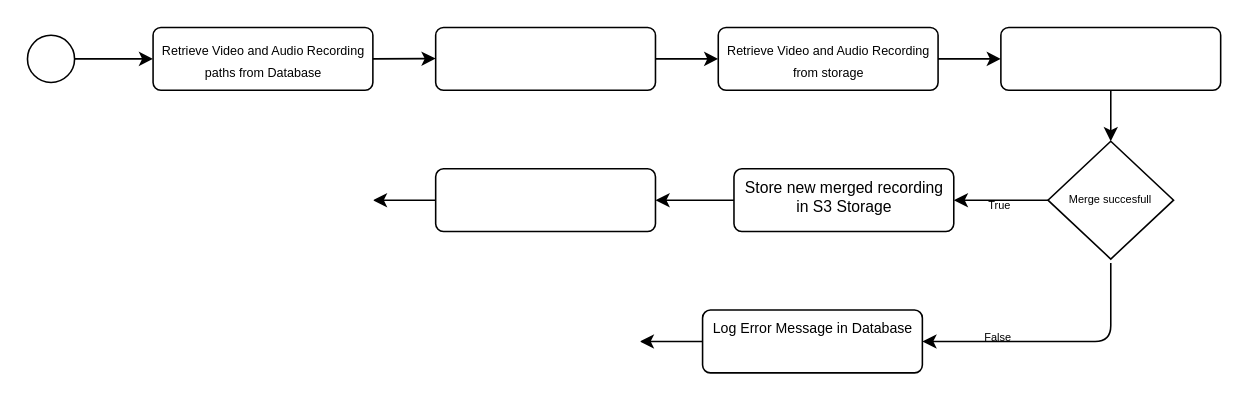
Some shapes in this 1248 by 400 pixel diagram are drawn without their labels. Here are the shapes that lost their labels. From the top down, the centre of each, then its label:
At (x=544, y=58): "Send recording paths to lambda function".
At (x=1110, y=58): "Merge Video and Audio Recordings".
At (x=544, y=199): "Store new merge recording path in Database.".
